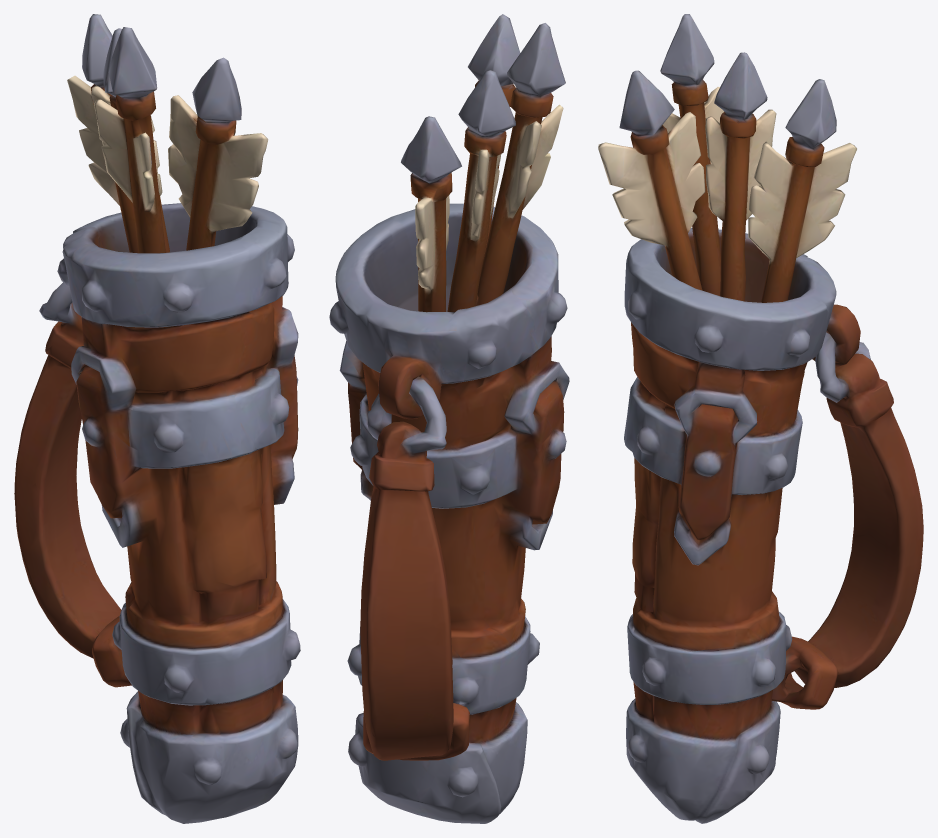
The model's file is Arm_bound_quiver-Db7YIpza.glb.
3 views of the same model, side by side, from view 1: azimuth 30°, elevation 25°; view 2: azimuth 150°, elevation 25°; view 3: azimuth 270°, elevation 25° (orthographic). The views are drawn at different scales.
Visible parts, largest first — view 1: Arm_bound_quiver; view 2: Arm_bound_quiver; view 3: Arm_bound_quiver.
Part boxes in pixels (x1,y1,x2,y2): Arm_bound_quiver: (14, 14, 300, 823); Arm_bound_quiver: (329, 14, 569, 823); Arm_bound_quiver: (598, 14, 923, 823).
Bounding box in the file's own units: 0.2047 × 0.75 × 0.2947.
1 material, 1 textured.
